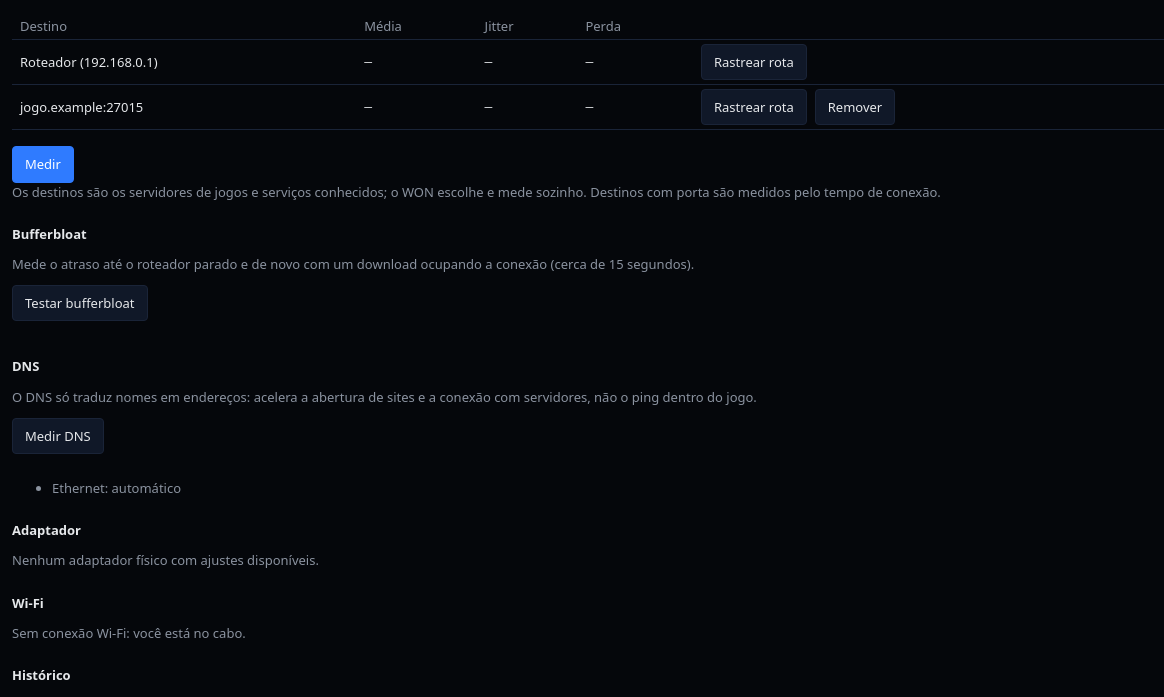
Test: Rede › no DoH option for a server Windows cannot encrypt
(page scrolled)
Step 1. Click the button "Medir DNS" → (58, 436), box top-left (12, 418), bottom-right (104, 454)
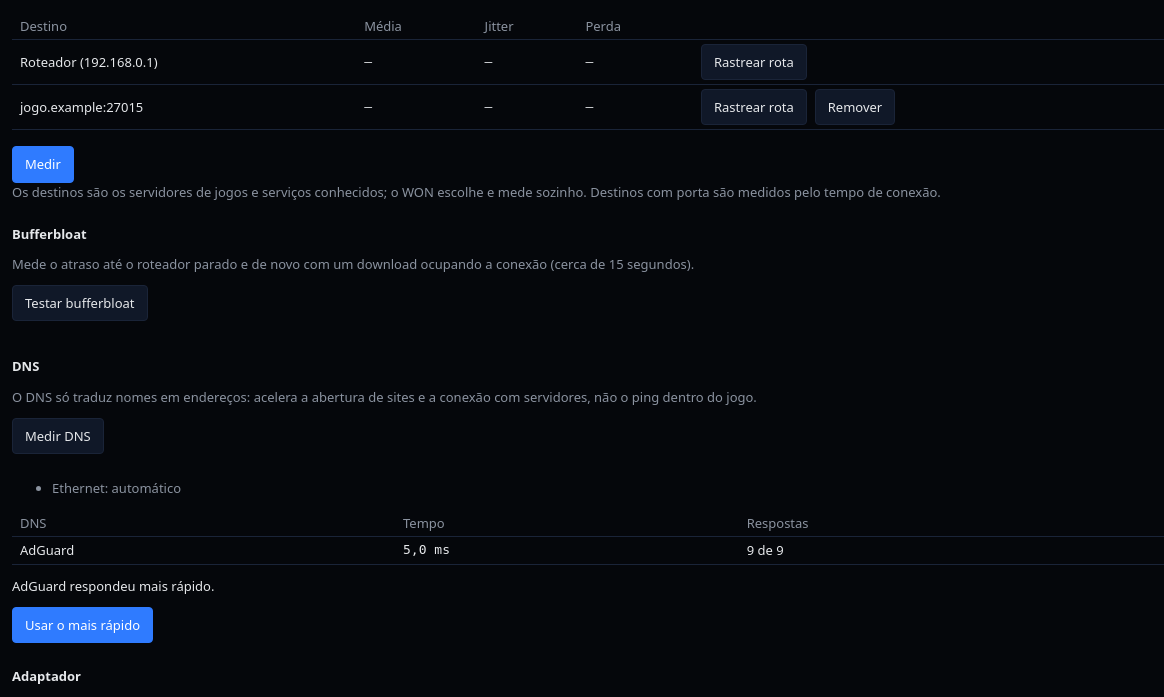
Result: the button "Usar o mais rápido" is shown at top-left (12, 607), bottom-right (153, 643)
